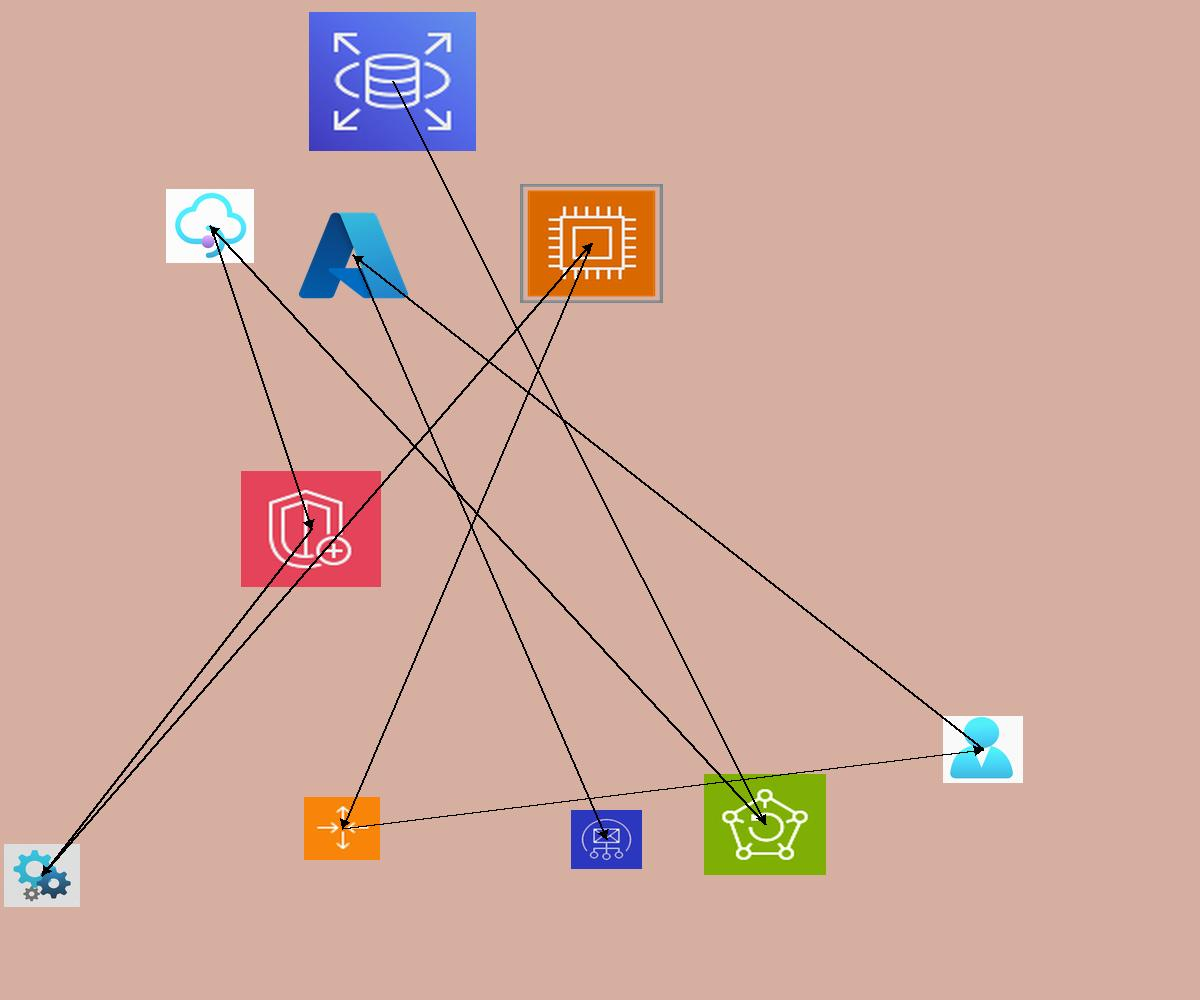AWS-Backup: (704, 774, 826, 875)
AWS-Category_Compute: (520, 184, 663, 303)
AWS-RDS: (309, 12, 476, 151)
AWS-Scaling-group: (304, 797, 380, 860)
AWS-Shield: (241, 471, 381, 587)
AWS-Simple-Email-Service: (571, 810, 642, 869)
Azure_api: (4, 844, 80, 907)
Azure_api_gateway: (166, 189, 254, 263)
Azure_services: (294, 206, 413, 305)
Azure_users: (943, 716, 1023, 783)
